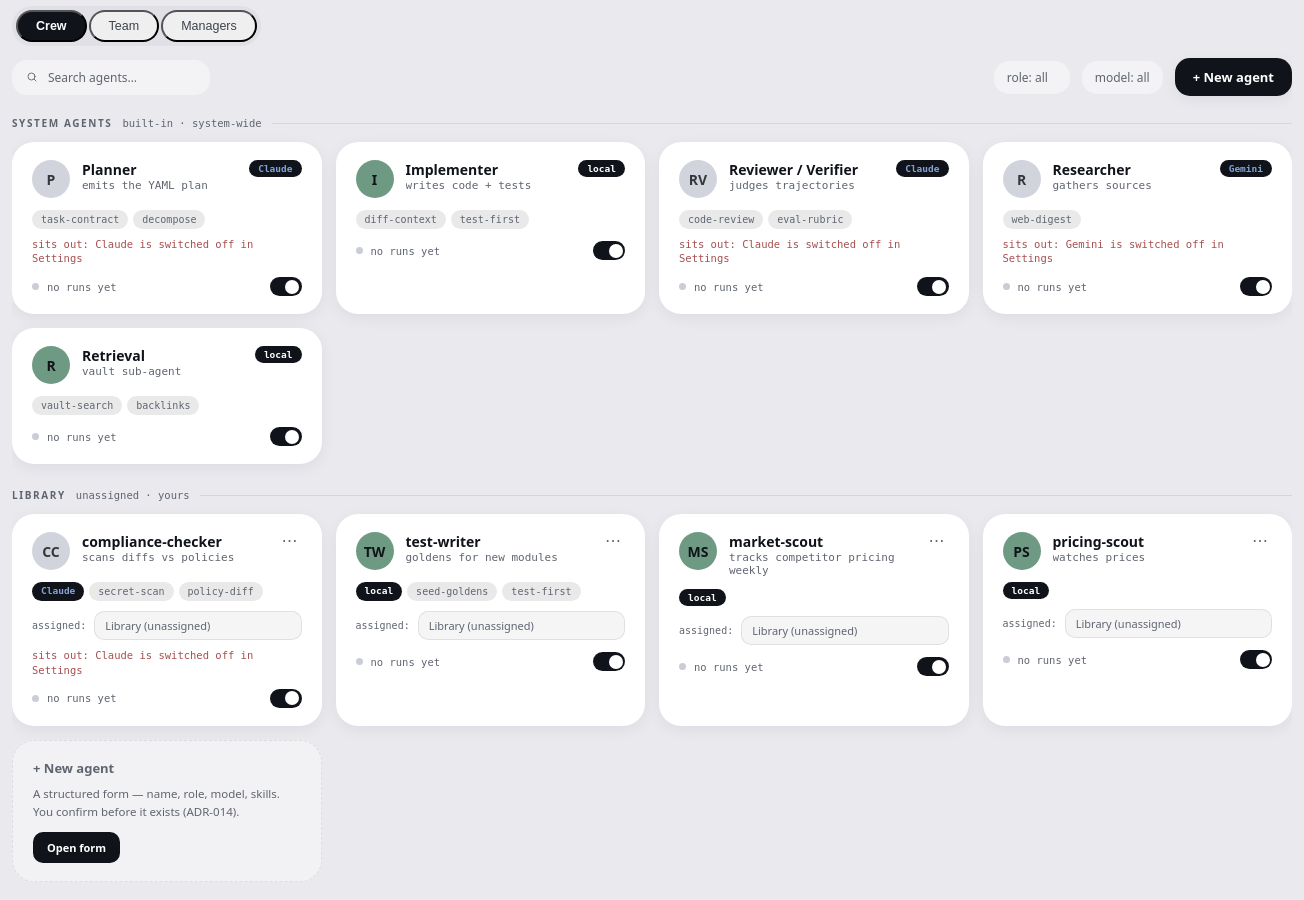
Scenario: the per-agent page › clicking a crew card opens that agent’s page
Click the link with aria-label "open pricing-scout": point(1137, 551) [1002, 532, 1272, 570]
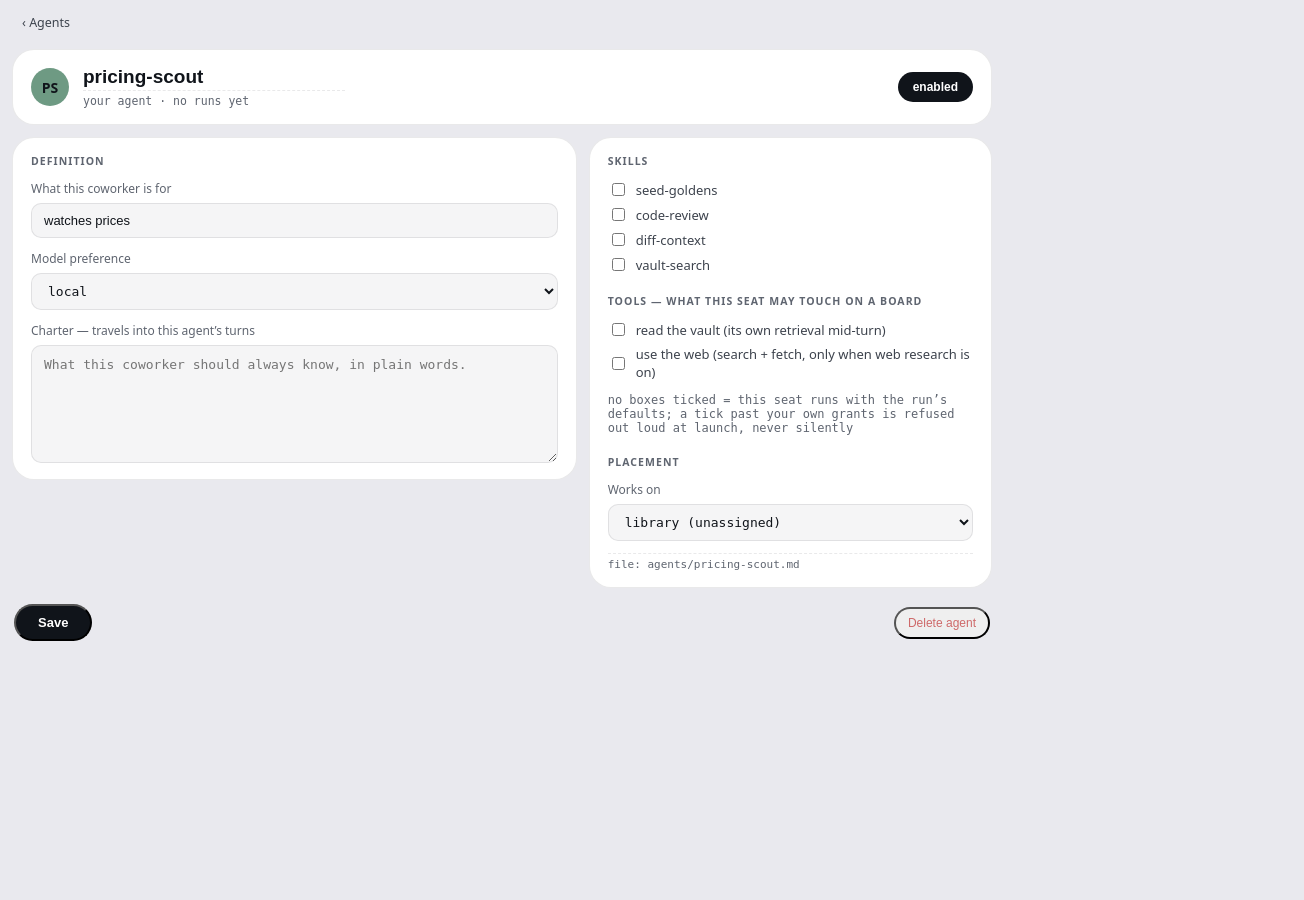
Check: the field labelled "What this coworker is for" is shown, box [31, 203, 558, 238]
